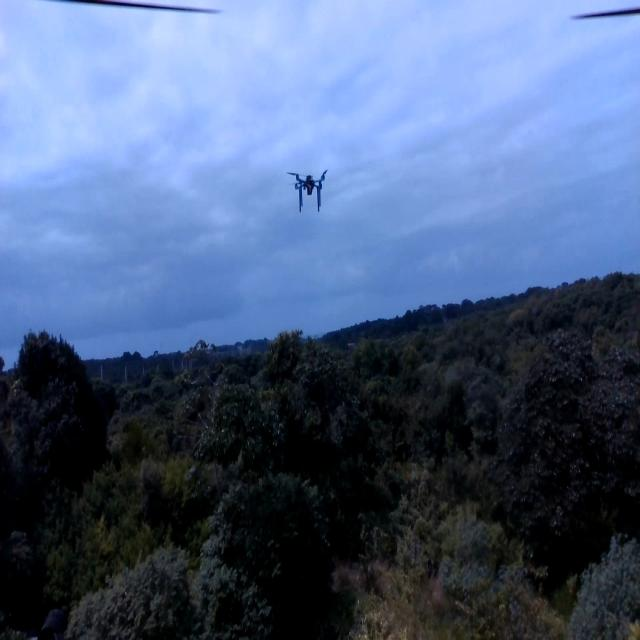-uav-: (288, 150, 332, 219)
